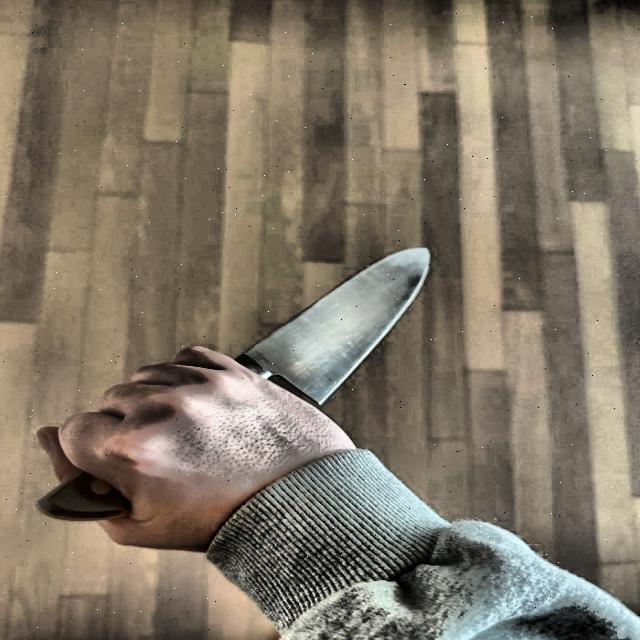knife: (42, 242, 433, 525)
